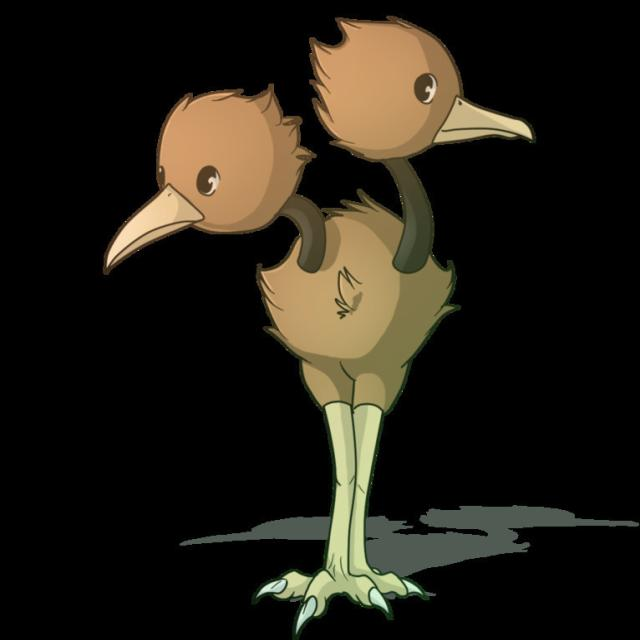Doduo: (108, 15, 530, 632)
